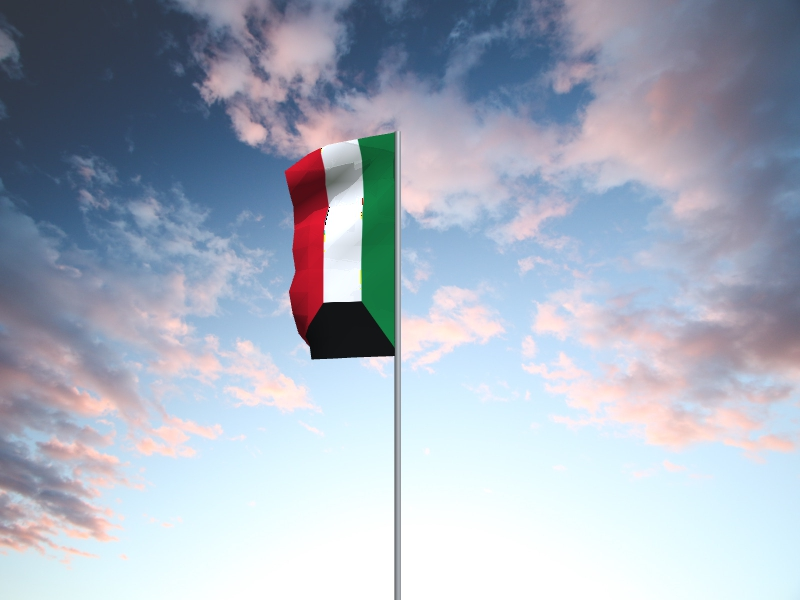kw: (284, 134, 395, 361)
